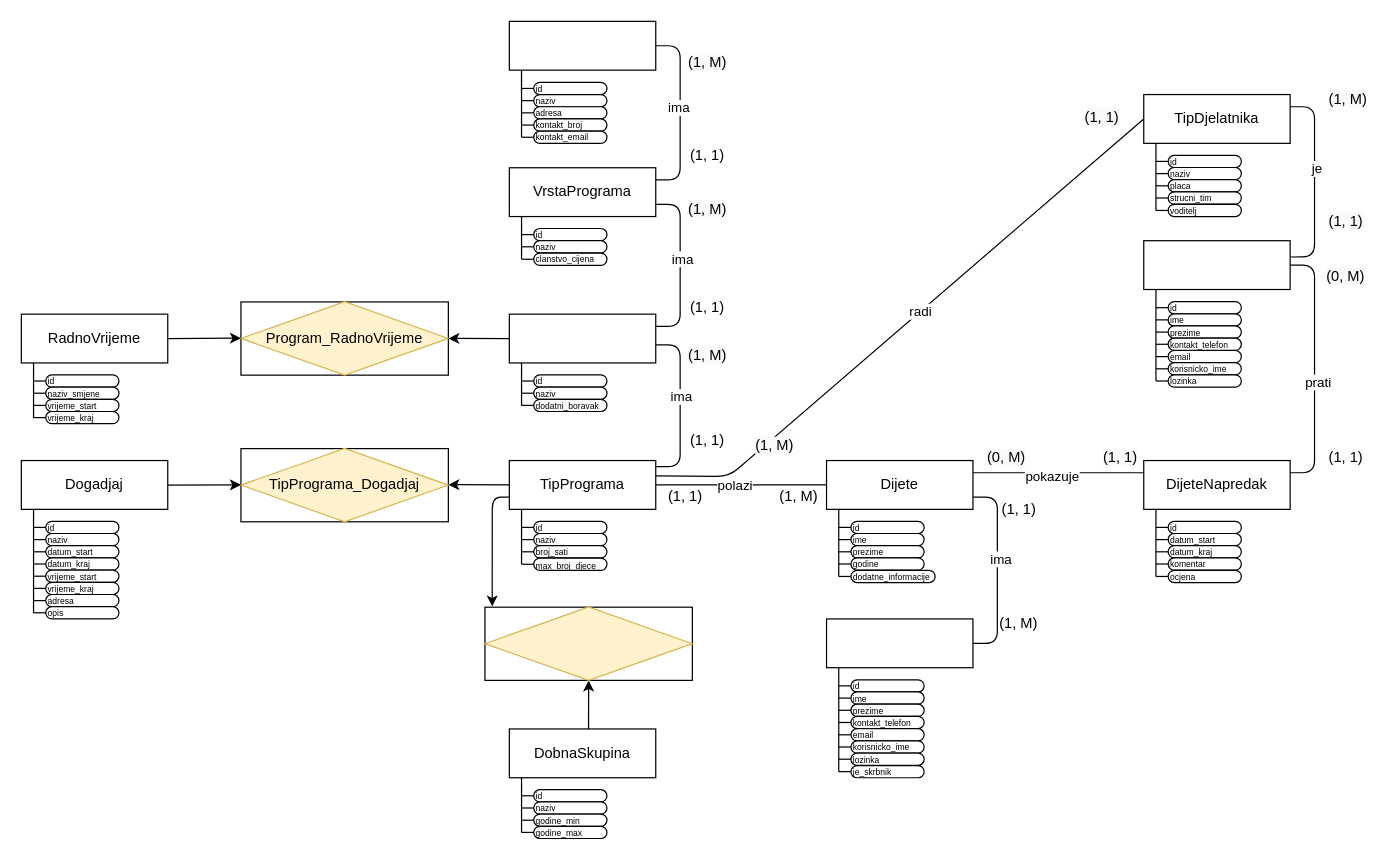
This 1393x865 diagram has some shape labels left out. Each missing label, with the centre of its shape:
"Djelatnik" goes at (x=1216, y=264).
"Program" goes at (x=582, y=338).
"Roditelj" goes at (x=899, y=643).
"TipPrograma_DobnaSkupina" goes at (x=588, y=643).
"Vrtić" goes at (x=582, y=45).
